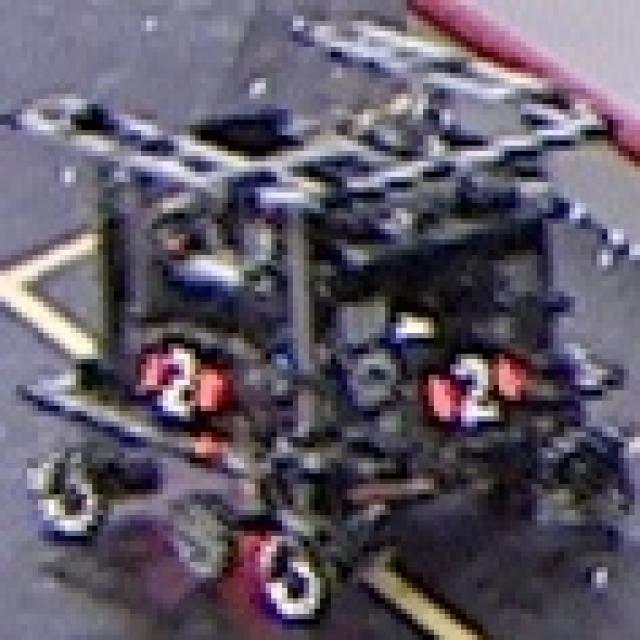R2: (136, 338, 233, 422), (423, 348, 515, 426)
